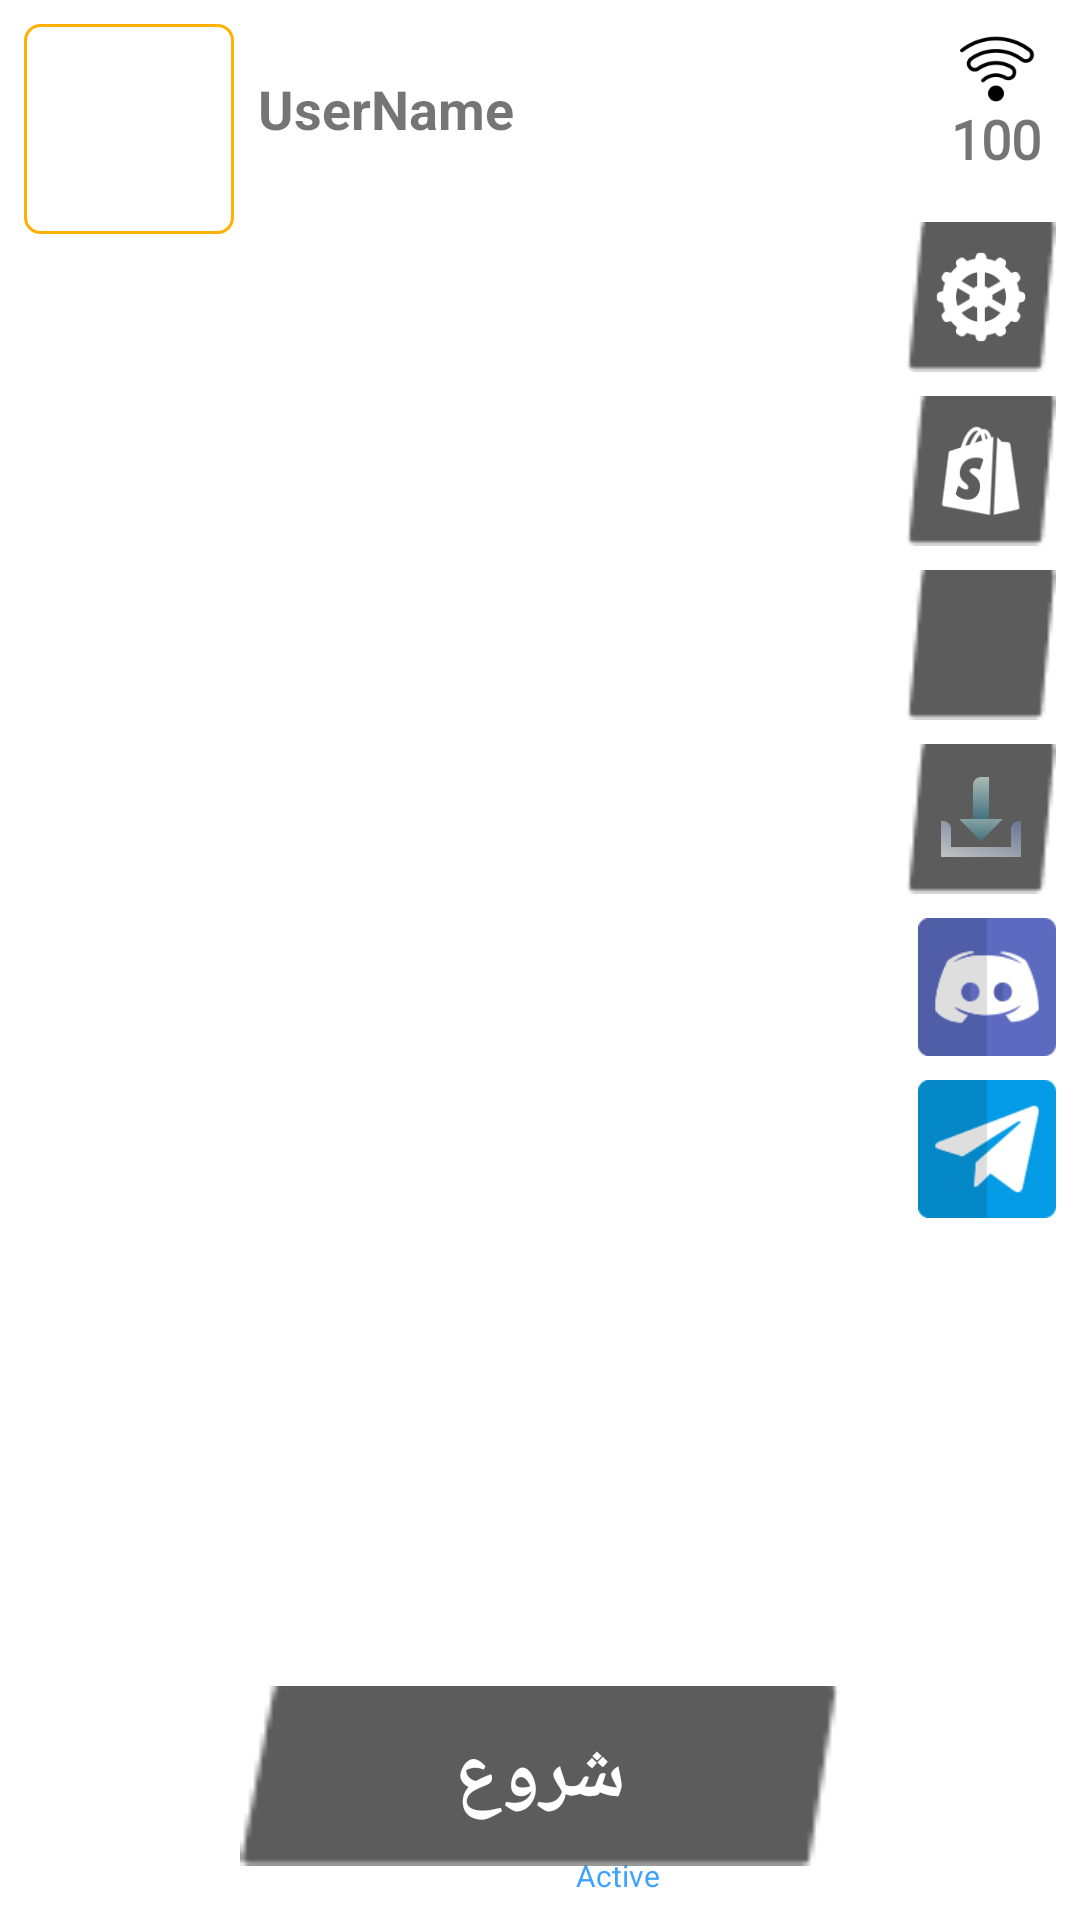

Icon click points for this 1080*1920 phone screenshot, format point (x, y):
download: point (981, 817)
setting: point (981, 297)
wifi: point (997, 69)
